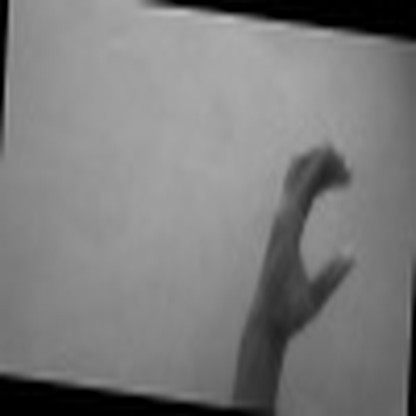c: (248, 137, 358, 340)
